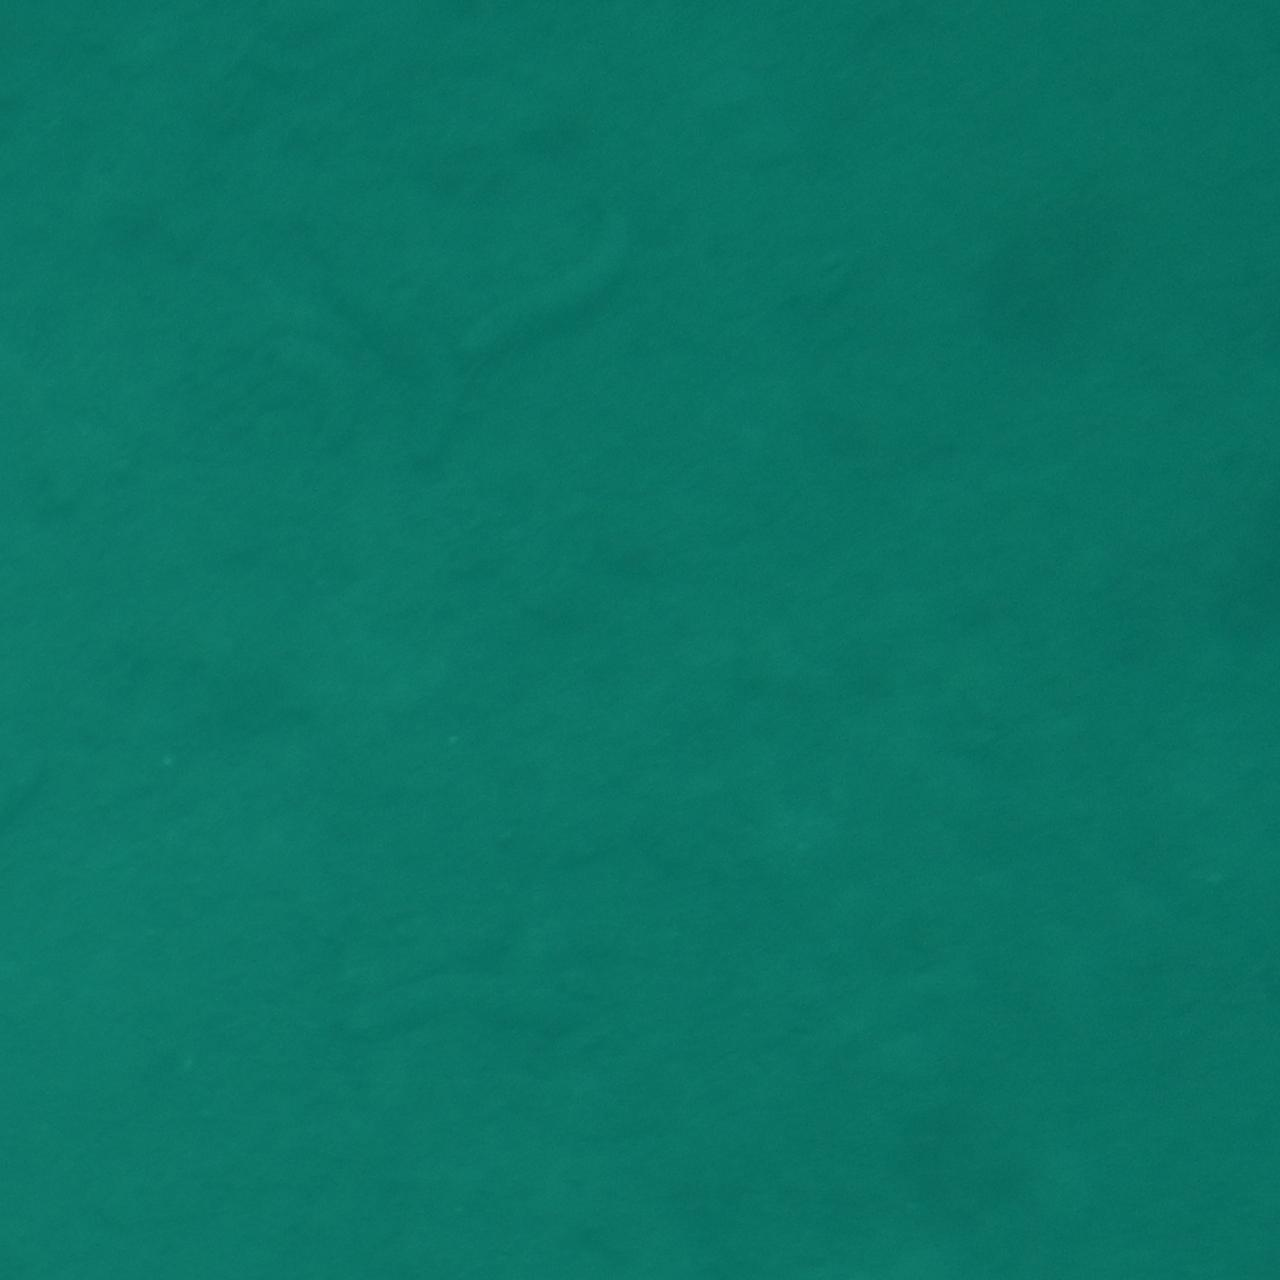Holothuria tubulosa: (470, 159, 688, 395), (354, 933, 680, 1074), (1175, 717, 1280, 1037), (0, 717, 113, 905)
